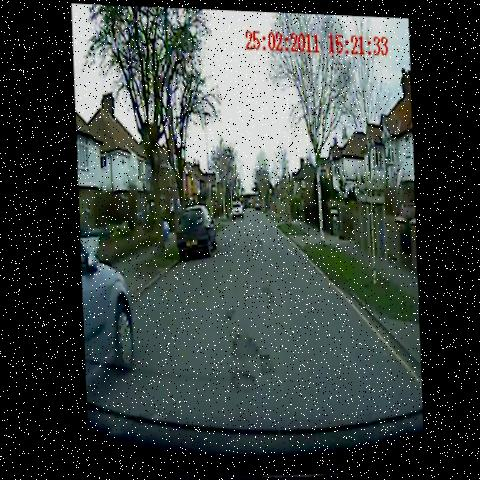pothole: (220, 356, 256, 404), (225, 320, 260, 367), (211, 292, 240, 328), (256, 274, 277, 314), (255, 342, 275, 383), (253, 230, 267, 253)
